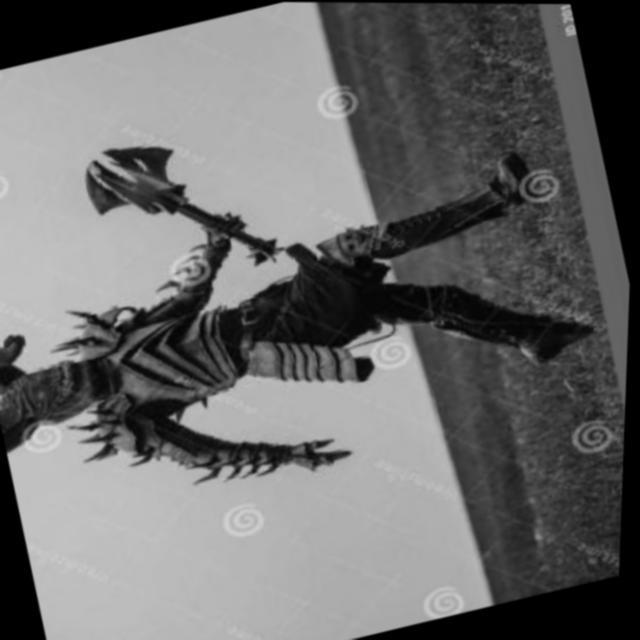weapon: (0, 131, 622, 547), (69, 109, 295, 308)
